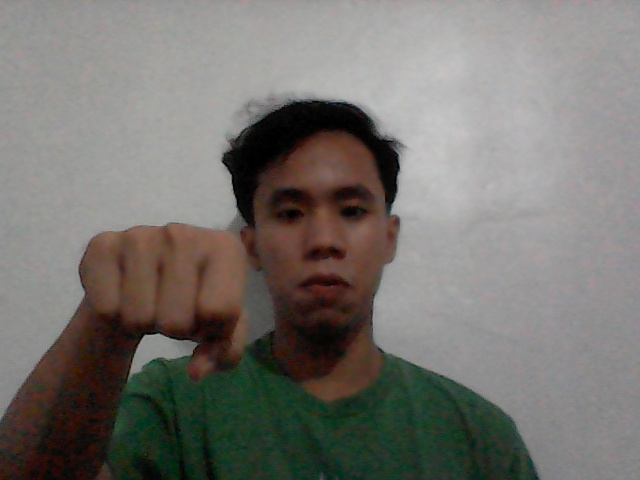Yes: (47, 182, 288, 396)
